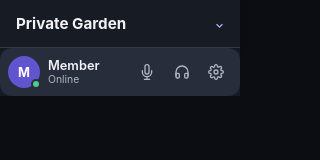
Test case: F.5.3 selected Server Header menu › shows only Leave Server to an ordinary member without management capabilities
Click the button "Private Garden ⌄". click: (120, 24)
box: [16,14,224,33]
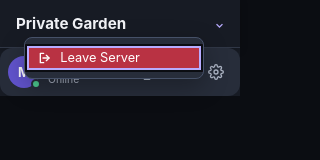
Result: the menu item "Leave Server" is shown at [25,44,203,72]
